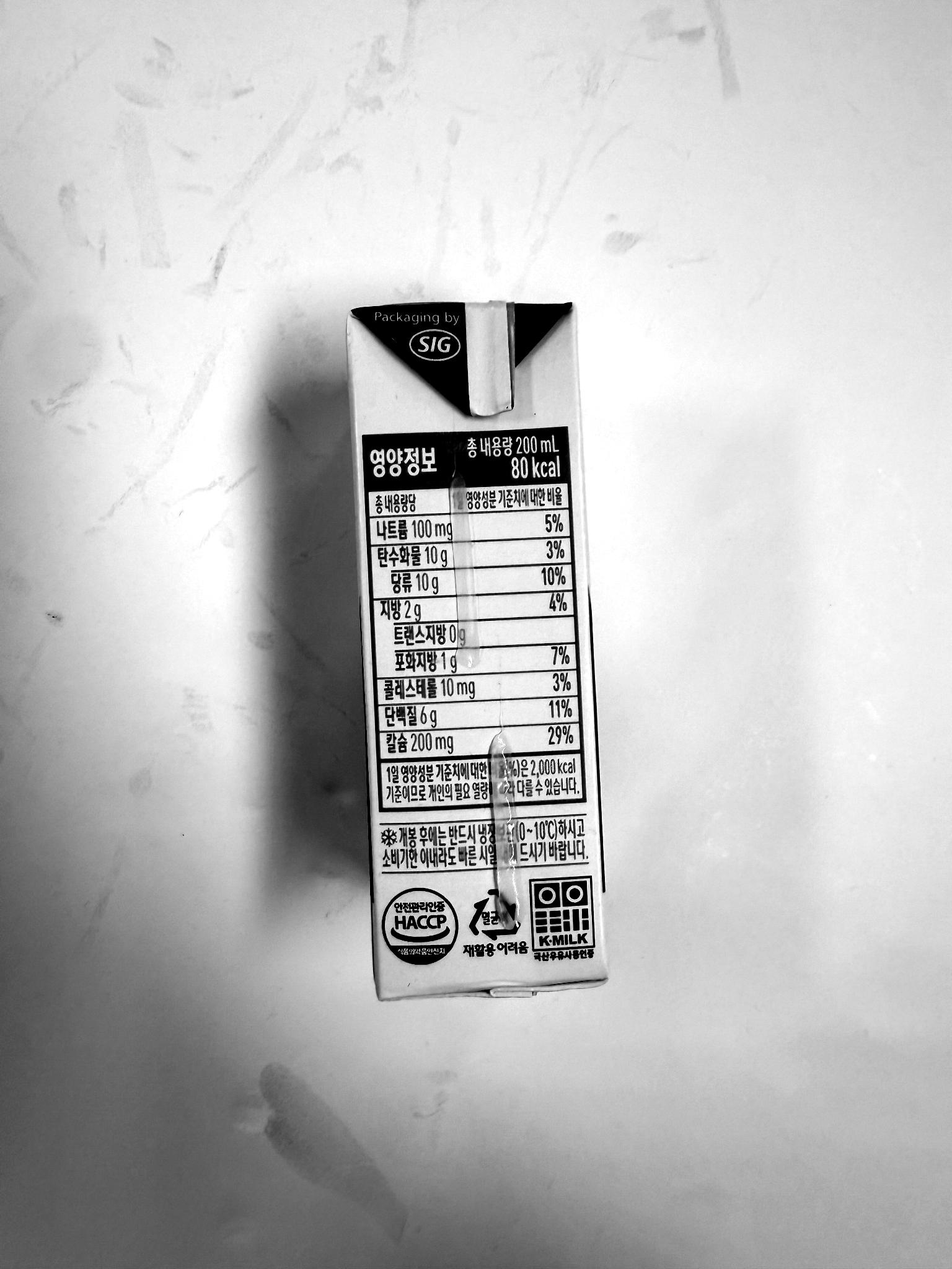milk_blue: (349, 301, 612, 998)
